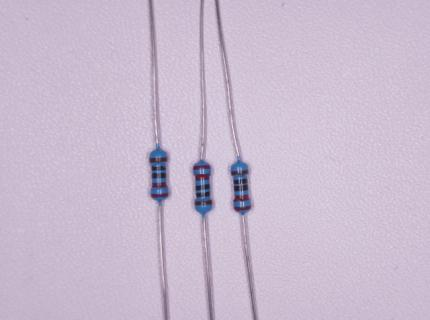Black band: (196, 191, 210, 198), (234, 184, 248, 191), (196, 185, 210, 191), (234, 178, 248, 184), (151, 166, 166, 171), (152, 173, 165, 178)
Brown band: (231, 169, 249, 175), (195, 199, 212, 205), (150, 158, 167, 162)
Red band: (233, 195, 250, 201), (195, 174, 210, 180), (193, 165, 211, 170), (234, 206, 251, 211), (153, 182, 167, 187), (151, 193, 168, 197)
